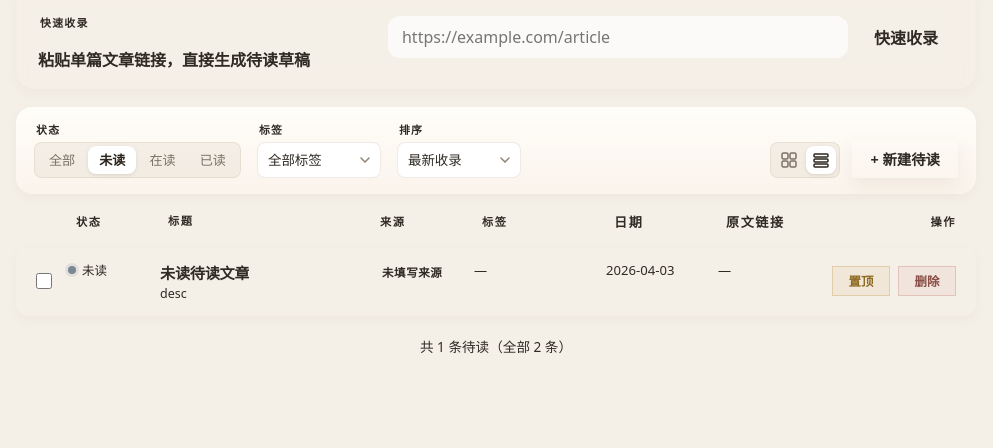
Test: post dashboard › defaults statusFilter to unread for read-later mode
The width and height of the screenshot is (993, 448).
Expected: the text "未读待读文章" is shown, [160, 261, 249, 283]
Expected: the text "已读待读文章" is not shown
Switch filter to '全部' should show both items
What coordinates should you click on to do the following:
click the button "全部"
I would click on:
 (62, 160)
Its box is [38, 146, 86, 174].
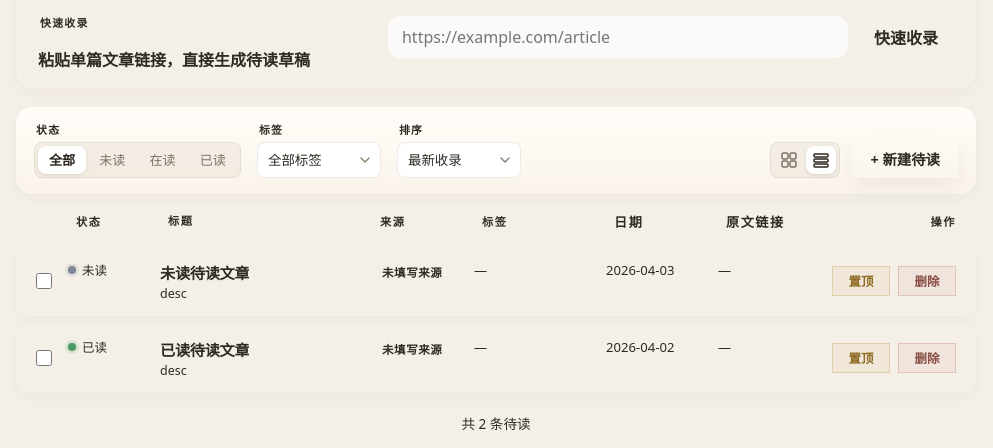
Expected: the text "未读待读文章" is shown, [160, 261, 249, 283]
Expected: the text "已读待读文章" is shown, [160, 338, 249, 360]
